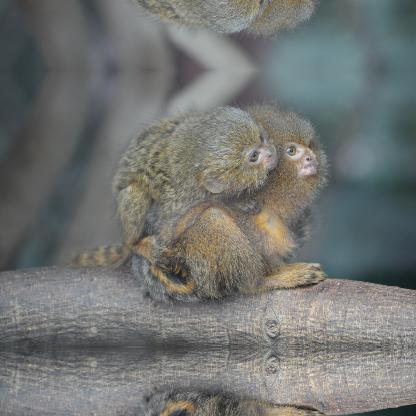Monkey: (130, 98, 328, 302), (68, 103, 278, 269), (129, 0, 329, 41), (67, 0, 279, 36)
